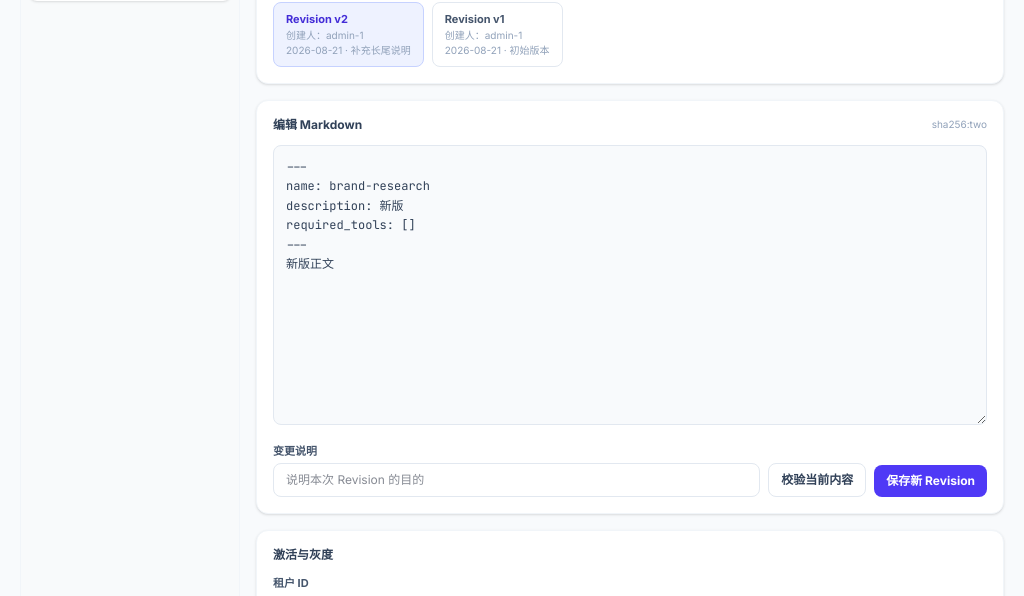
Test: SkillAdmin › shows structured validation errors and loads database diff
The image size is (1024, 596).
Click the button "校验当前内容" at [817, 480], box [768,463,866,497]
(page scrolled)
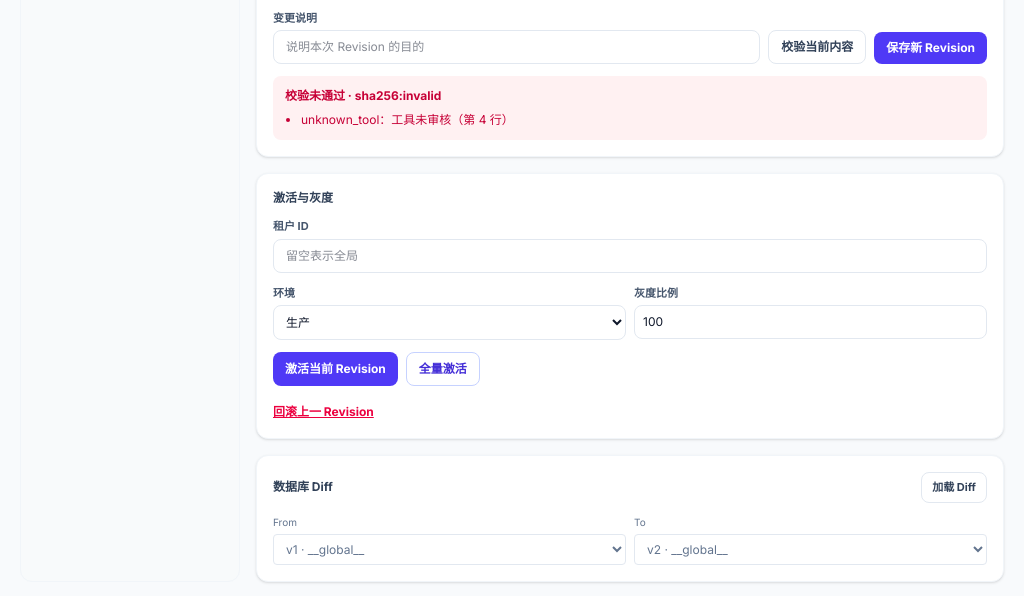
Check: the list item "unknown_tool：工具未审核（第 4 行）" is shown, box [301,112,514,127]
Click the button "加载 Diff" at [954, 487], box [921,472,987,502]
(page scrolled)
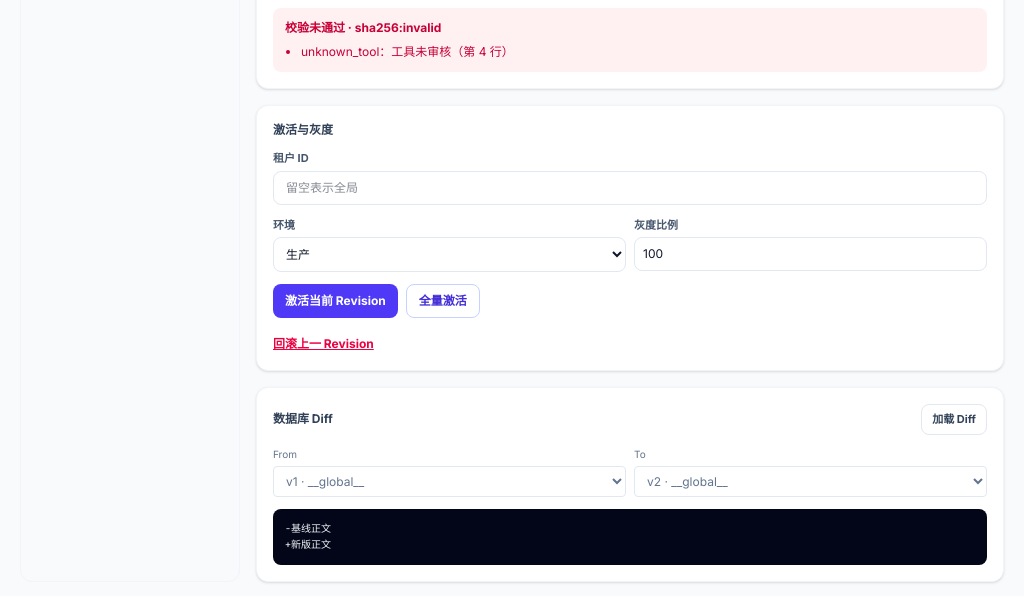
Check: the text "-基线正文 +新版正文" is shown, box [273,508,987,565]
